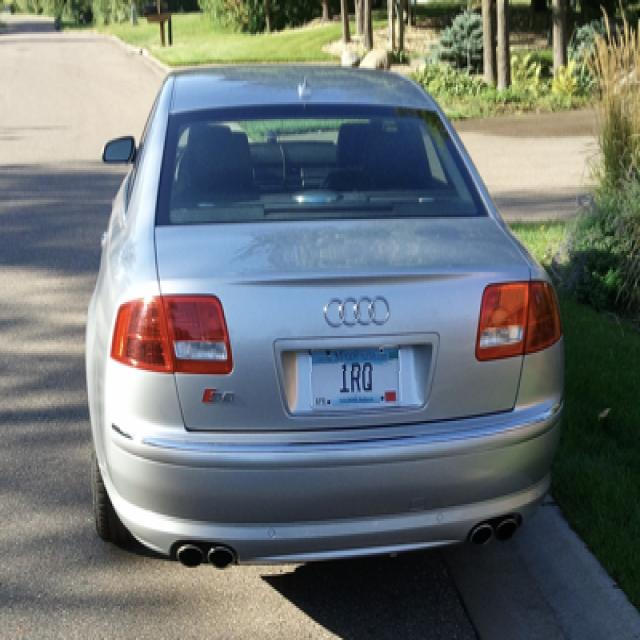licence: (304, 349, 406, 406)
